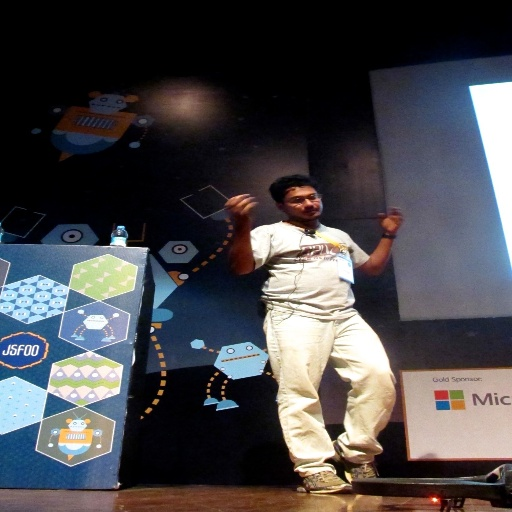hand: (222, 191, 262, 230), (378, 205, 405, 235)
